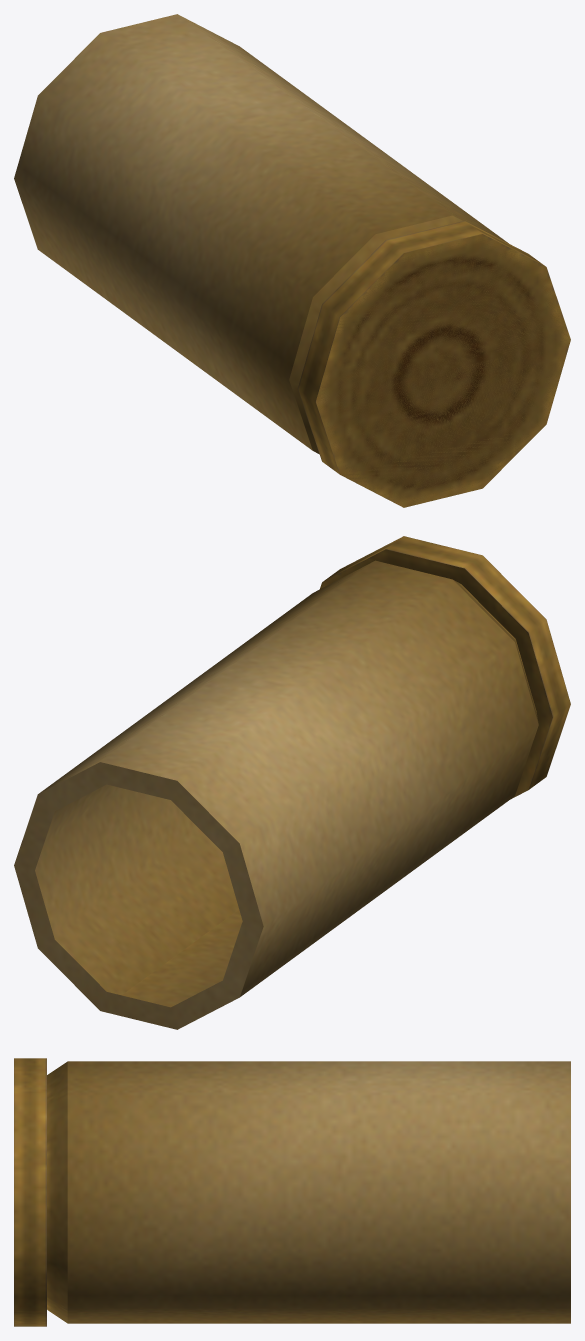
File: bullet.obj
The picture shows the model from 3 angles, top to bottom: view 1: azimuth 30°, elevation 25°; view 2: azimuth 150°, elevation 25°; view 3: azimuth 270°, elevation 25°; orthographic projection. The views are drawn at different scales.
Visible parts, largest first — view 1: bullet; view 2: bullet; view 3: bullet.
Part boxes in pixels (x1,y1,x2,y2): bullet: (14, 14, 570, 507); bullet: (14, 536, 570, 1029); bullet: (14, 1058, 570, 1326).
Bounding box in the file's own units: 1.88 × 1.79 × 3.88.
1 material, 1 textured.
